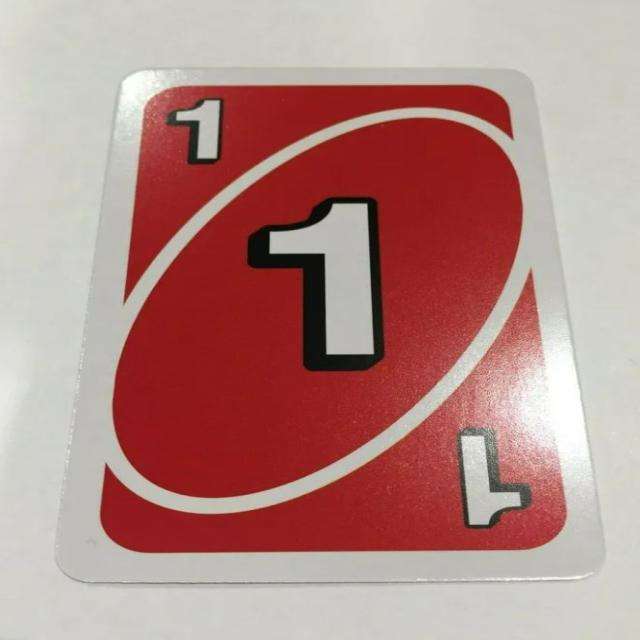Number_1: (163, 85, 230, 168)
Red_Card: (91, 79, 574, 560)
